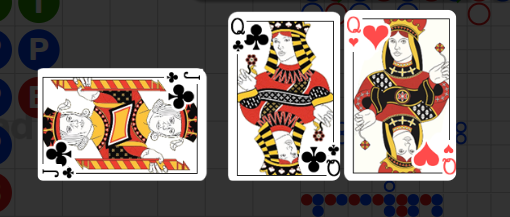9H: (346, 15, 361, 48)
JC: (165, 69, 202, 84), (41, 165, 76, 179)
QC: (295, 134, 339, 181), (228, 14, 272, 60)
